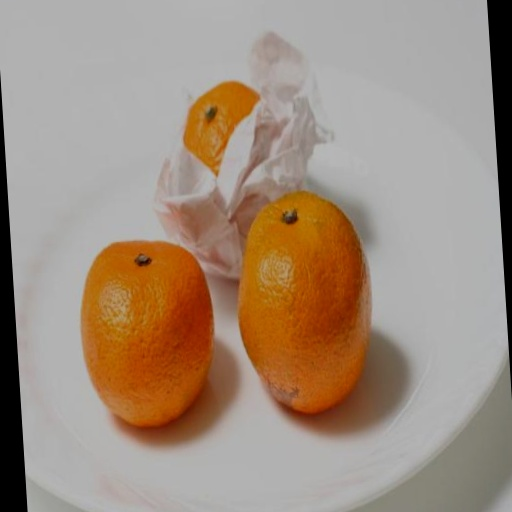fruit: (237, 192, 370, 413), (80, 241, 212, 426), (183, 81, 258, 174)
